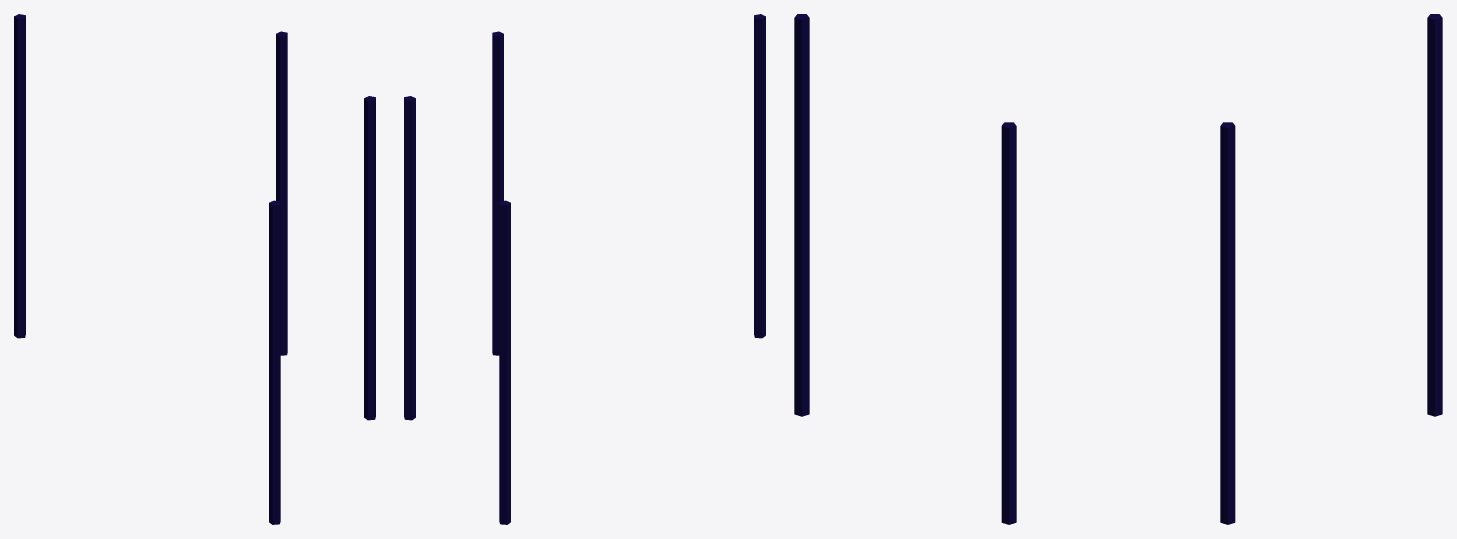
File: CircusTent_Poles.fbx
3 renders of one model, left to right at view 1: azimuth 30°, elevation 25°; view 2: azimuth 150°, elevation 25°; view 3: azimuth 270°, elevation 25°, orthographic. The views are drawn at different scales.
Visible parts, largest first — view 1: CircusTent_Poles; view 2: CircusTent_Poles; view 3: CircusTent_Poles.
Part boxes in pixels (left/top/right/bottom): CircusTent_Poles: left=14, top=14, right=375, bottom=524; CircusTent_Poles: left=404, top=14, right=765, bottom=524; CircusTent_Poles: left=794, top=14, right=1442, bottom=524.
Bounding box in the file's own units: 738 × 1195 × 1768.
